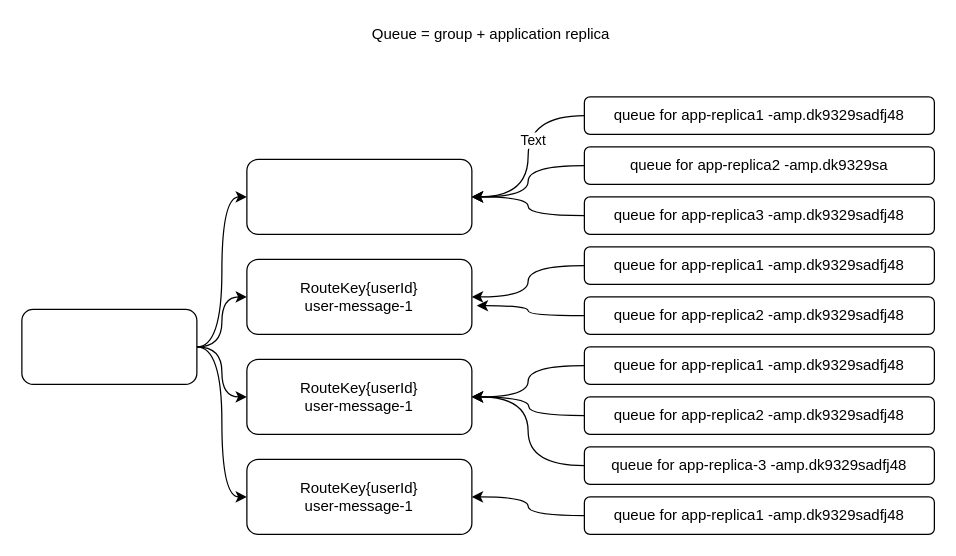
This 956x556 diagram has some shape labels left out. Here are the shapes that lost their labels. From the top down, the box of each, then its label:
(246, 158, 472, 234): RouteKey{groupId} user-message-1
(21, 308, 197, 384): Exchange user-message
